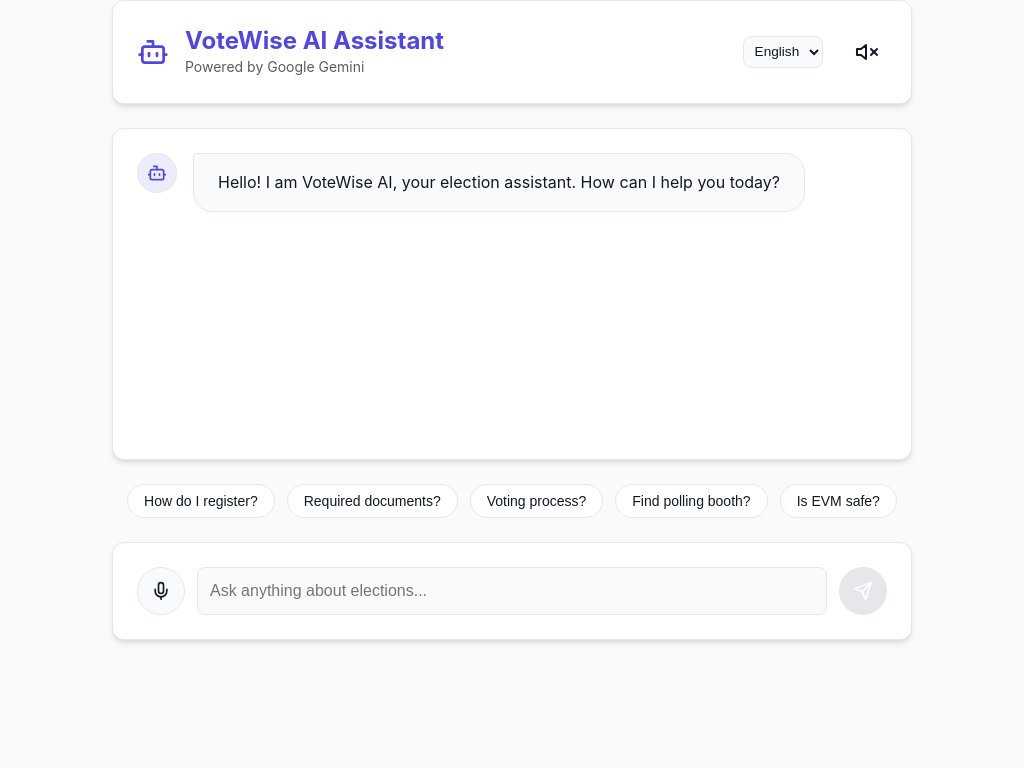
Test: Assistant Component › displays error fallback gracefully when API fails
Type "Is EVM safe?" into the field named "Message input" at point(512, 591), box 197,567 -> 827,615
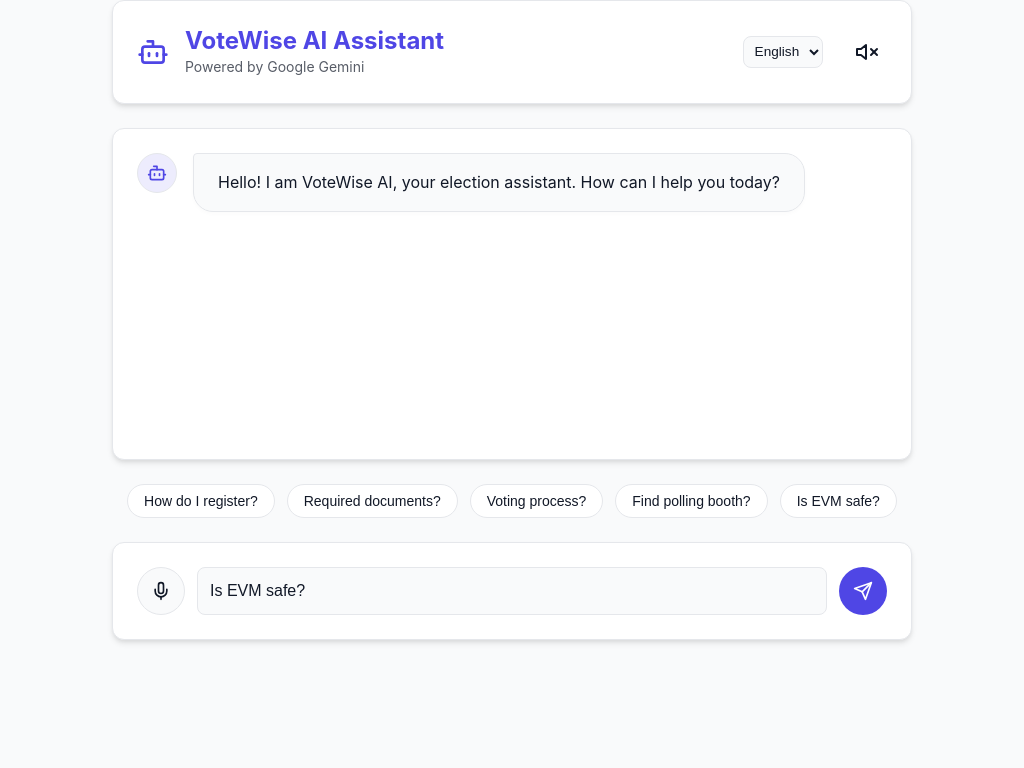
Submit the form named "Message input", box 112,542 -> 912,640
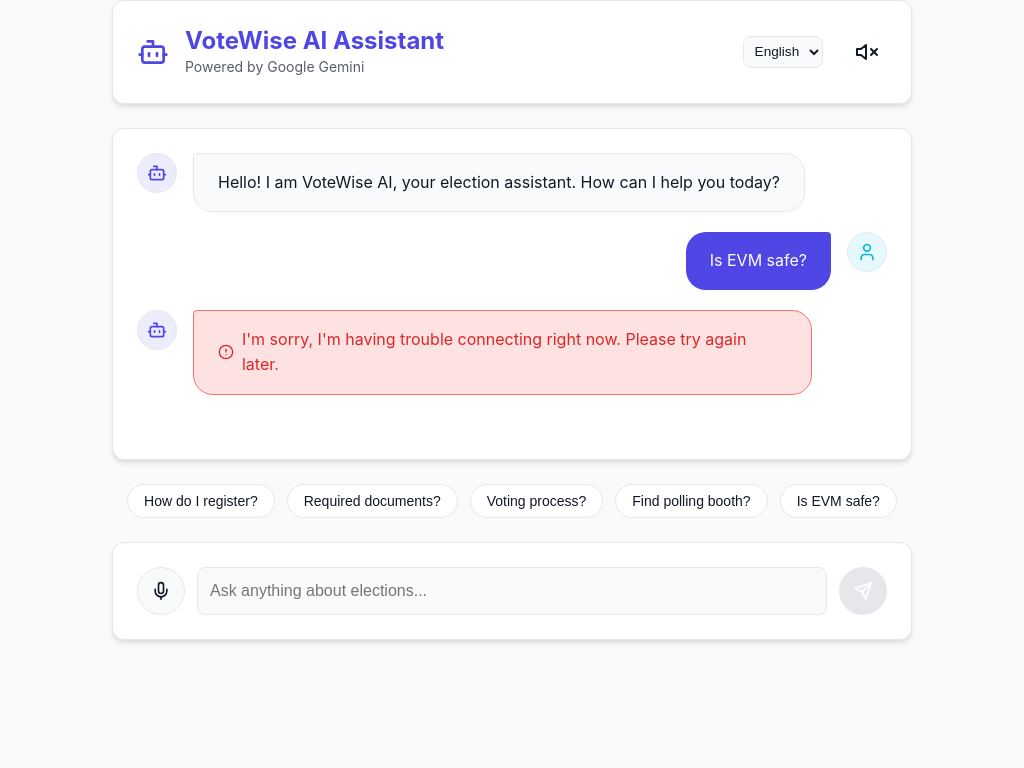
expect the text "I'm having trouble connecting right now" is shown: met, box 242,329 -> 746,374
